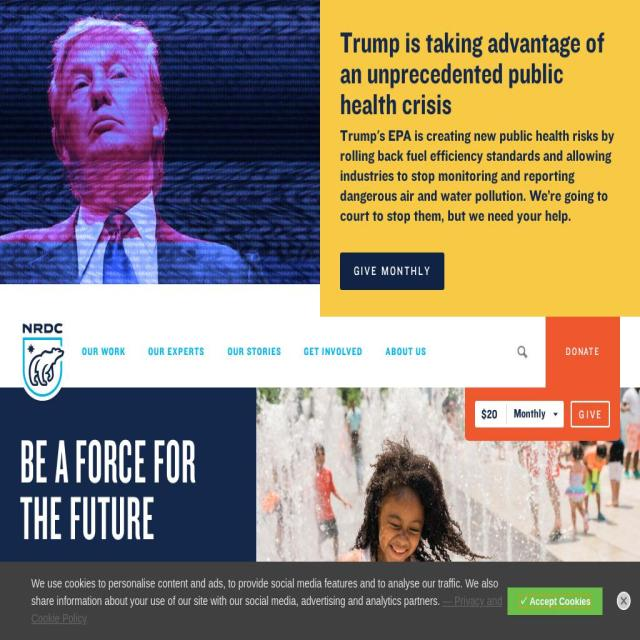button: (0, 0, 640, 317), (545, 316, 621, 387), (304, 316, 363, 387), (148, 316, 205, 387), (227, 316, 281, 387), (20, 323, 65, 405), (82, 316, 126, 387), (385, 316, 426, 387), (0, 0, 640, 4), (506, 400, 564, 428), (520, 595, 592, 607), (20, 633, 105, 640)
field: (0, 544, 192, 581), (124, 544, 192, 582), (571, 400, 610, 428), (475, 400, 507, 428)
heading: (340, 27, 620, 119), (20, 432, 216, 546), (32, 316, 608, 337), (0, 516, 192, 532), (6, 618, 136, 634)
image: (255, 386, 640, 640), (0, 0, 320, 285), (621, 592, 634, 610)
link: (340, 126, 620, 226), (31, 594, 502, 625)
text: (31, 576, 498, 608), (20, 558, 216, 614), (0, 443, 232, 479), (340, 252, 444, 290), (506, 400, 564, 428)
